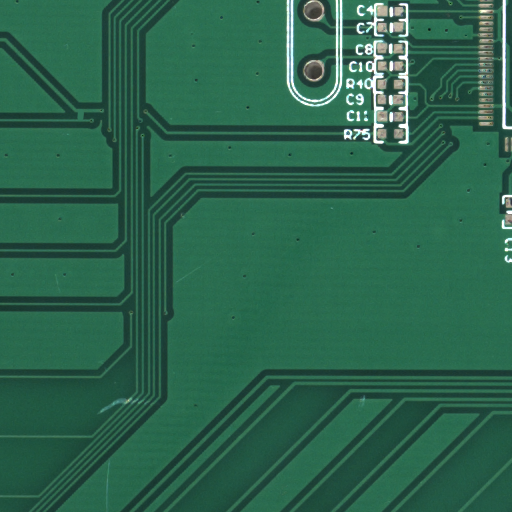Short: (80, 115, 91, 127)
